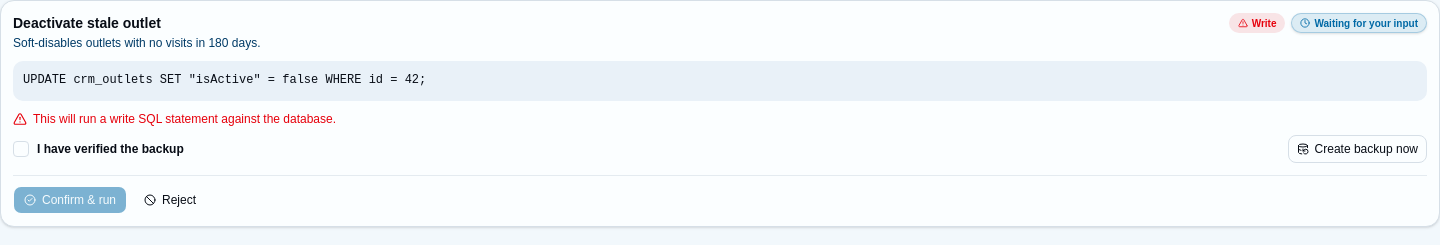
ChatConfirmCard › gates Confirm on the mandatory backup checkbox for writes
This screenshot has width=1440, height=245.
Expected: the button "Confirm & run" is disabled, [13,186,127,214]
Click the checkbox named "I have verified the backup": [21, 148] box [13,140,29,156]
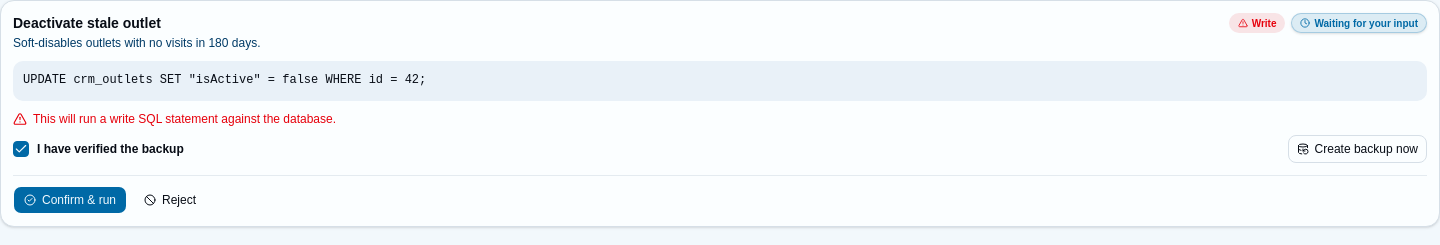
Expected: the button "Confirm & run" is enabled, [13,186,127,214]
